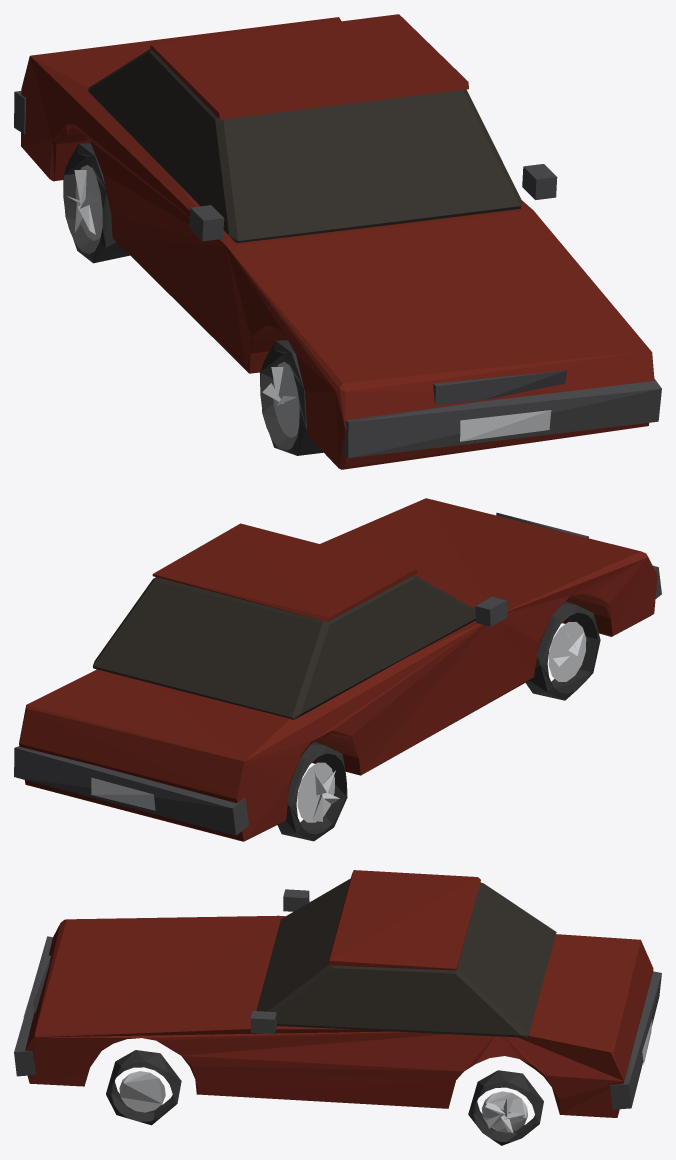
File: car-wreck-lod1.glb
The picture shows the model from 3 angles, top to bottom: view 1: azimuth 30°, elevation 25°; view 2: azimuth 150°, elevation 25°; view 3: azimuth 270°, elevation 25°; orthographic projection. The views are drawn at different scales.
Bounding box in the file's own units: 2.37 × 1.47 × 4.79.
